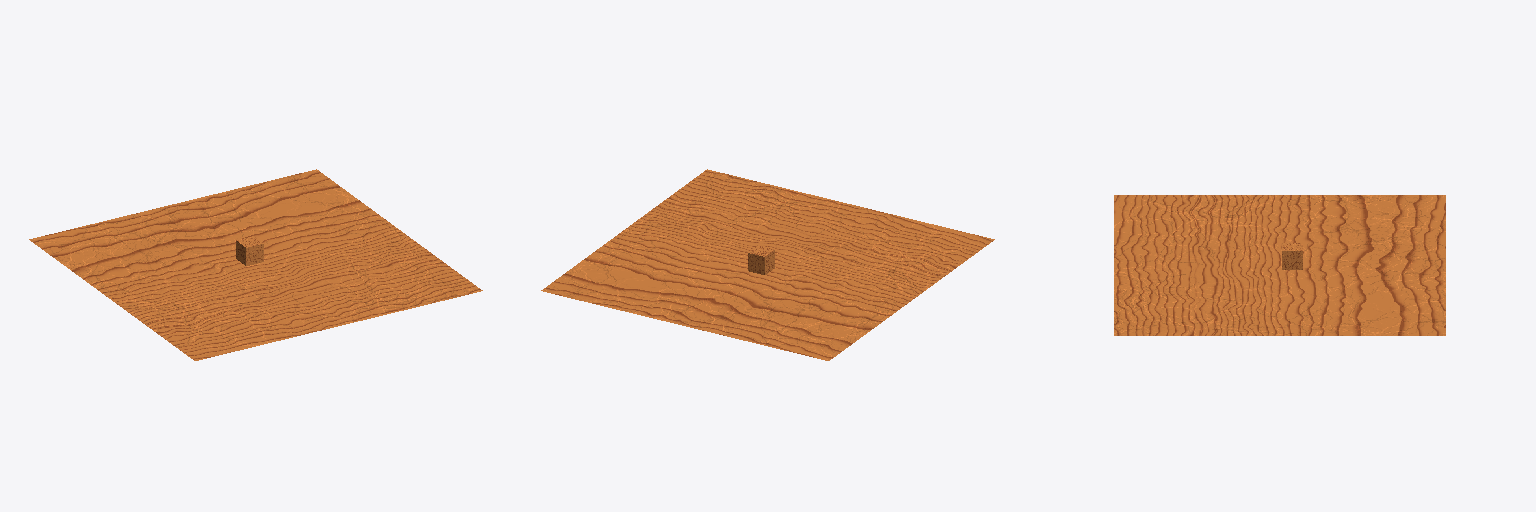
3 views of the same model, side by side, from view 1: azimuth 30°, elevation 25°; view 2: azimuth 150°, elevation 25°; view 3: azimuth 270°, elevation 25° (orthographic).
Parts seen in each view (by area): view 1: Plane, Cube.001; view 2: Plane, Cube.001; view 3: Plane, Cube.001.
Part boxes in pixels (x1,y1,x2,y2): Plane: (29,169,482,360); Cube.001: (236,236,263,265); Plane: (541,169,994,360); Cube.001: (748,245,774,274); Plane: (1114,195,1445,335); Cube.001: (1282,243,1302,269).
Size of the model in its own units: 32.7 by 2.02 by 32.7.
1 materials, 1 textured.